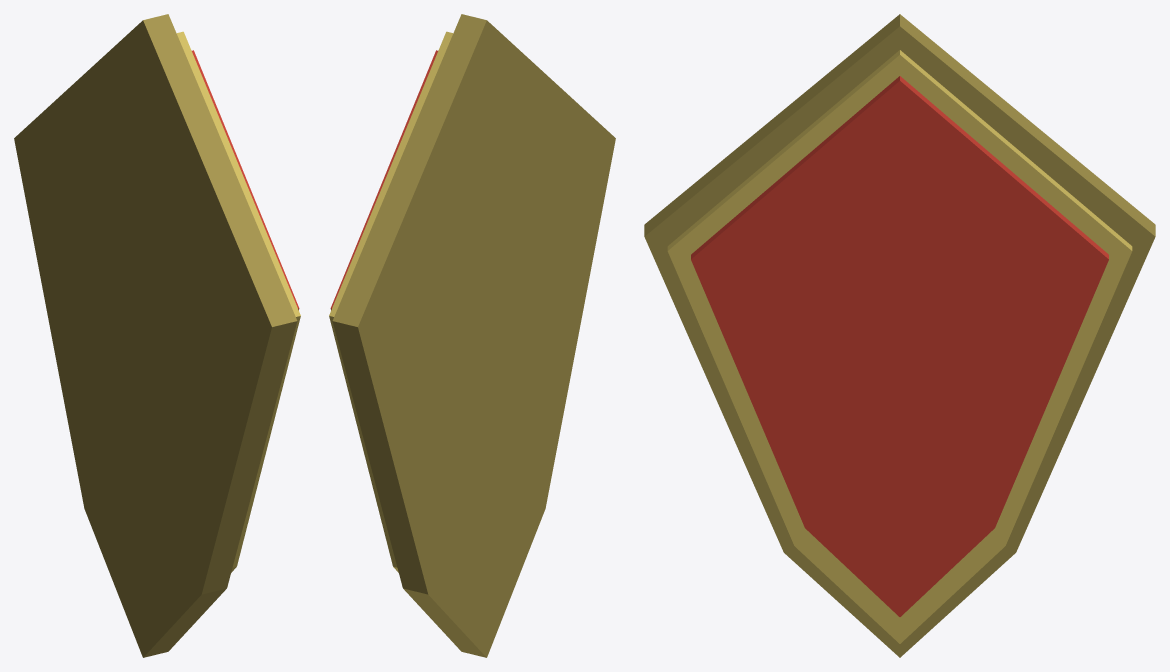
Rendered from shield.glb.
3 renders of one model, left to right at view 1: azimuth 30°, elevation 25°; view 2: azimuth 150°, elevation 25°; view 3: azimuth 270°, elevation 25°, orthographic.
Visible parts, largest first — view 1: Mesh_Mesh_head_geo.001_lambert2SG.001; view 2: Mesh_Mesh_head_geo.001_lambert2SG.001; view 3: Mesh_Mesh_head_geo.001_lambert2SG.001.
Boxes of the visible parts, <box> form: Mesh_Mesh_head_geo.001_lambert2SG.001: <box>14,14,300,657</box>; Mesh_Mesh_head_geo.001_lambert2SG.001: <box>329,14,615,657</box>; Mesh_Mesh_head_geo.001_lambert2SG.001: <box>644,14,1155,657</box>.
Size of the model in its own units: 0.005 by 0.06 by 0.044.
